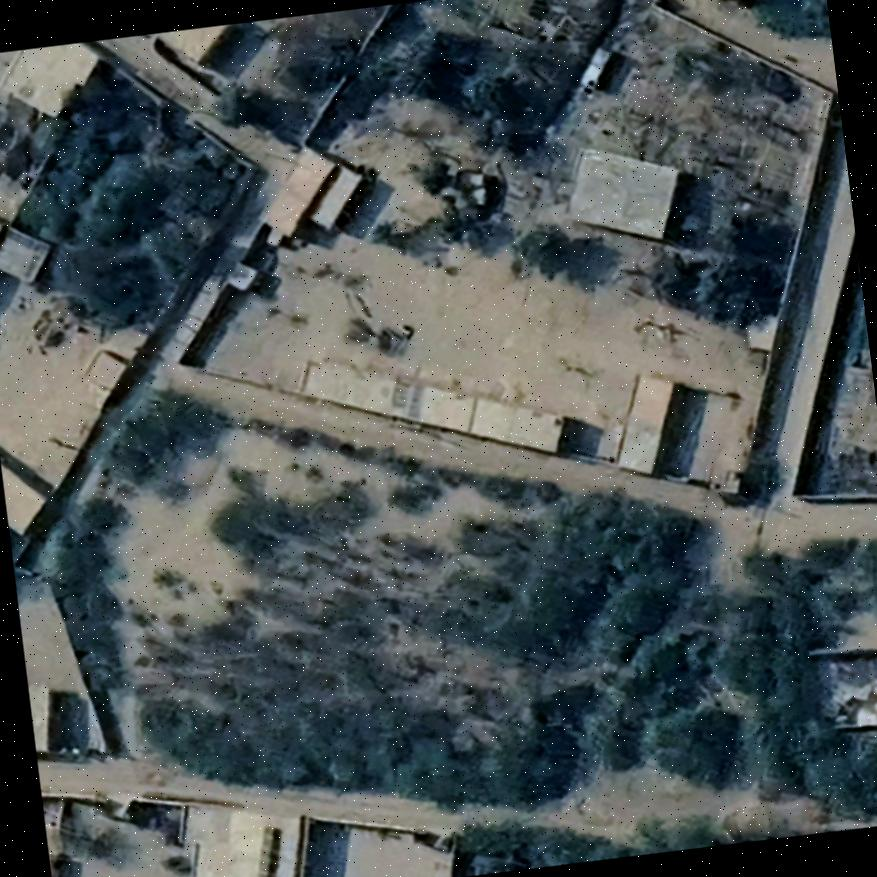Solarpanel: (385, 372, 426, 426), (252, 822, 284, 877)
